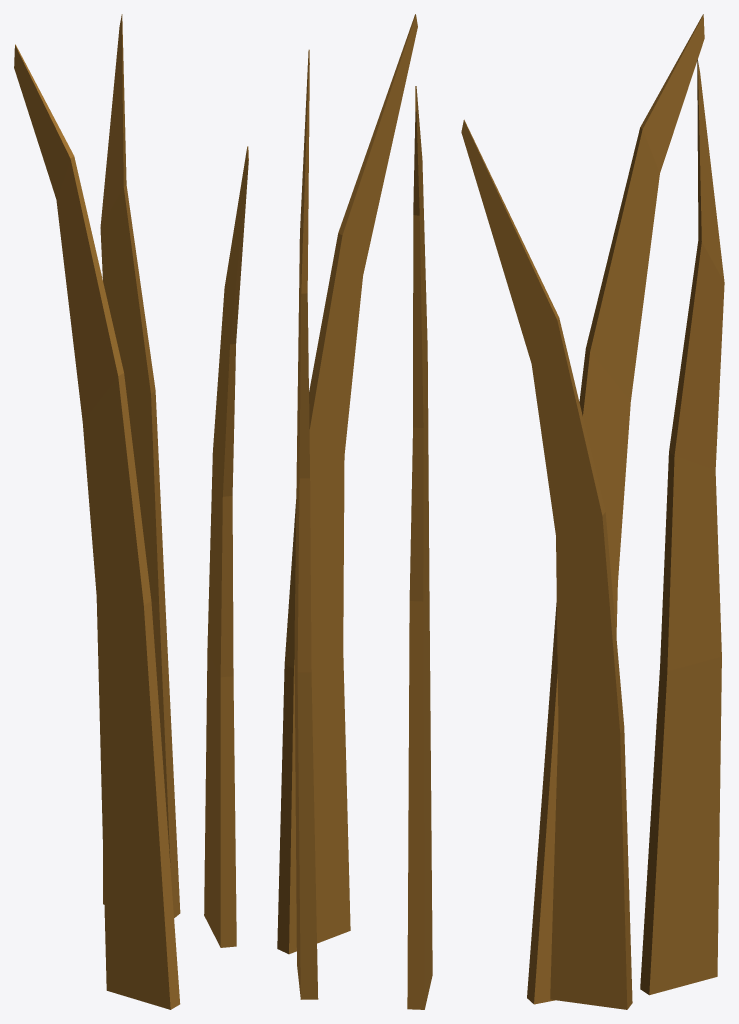
The model's file is PrairieTallGrass(5).fbx.
3 views of the same model, side by side, from view 1: azimuth 30°, elevation 25°; view 2: azimuth 150°, elevation 25°; view 3: azimuth 270°, elevation 25° (orthographic). The views are drawn at different scales.
Parts seen in each view (by area): view 1: PrairieTallGrass(5); view 2: PrairieTallGrass(5); view 3: PrairieTallGrass(5).
Boxes of the visible parts, left/top/right/bottom form: PrairieTallGrass(5): left=14, top=14, right=248, bottom=1009; PrairieTallGrass(5): left=277, top=14, right=432, bottom=1009; PrairieTallGrass(5): left=461, top=14, right=724, bottom=1009.
Bounding box in the file's own units: 0.5807 × 3.05 × 0.7602.
